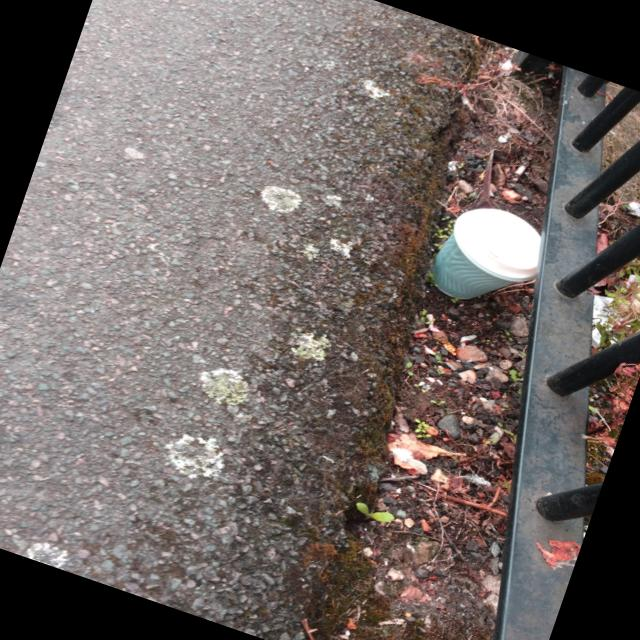less trash: (431, 208, 540, 299)
